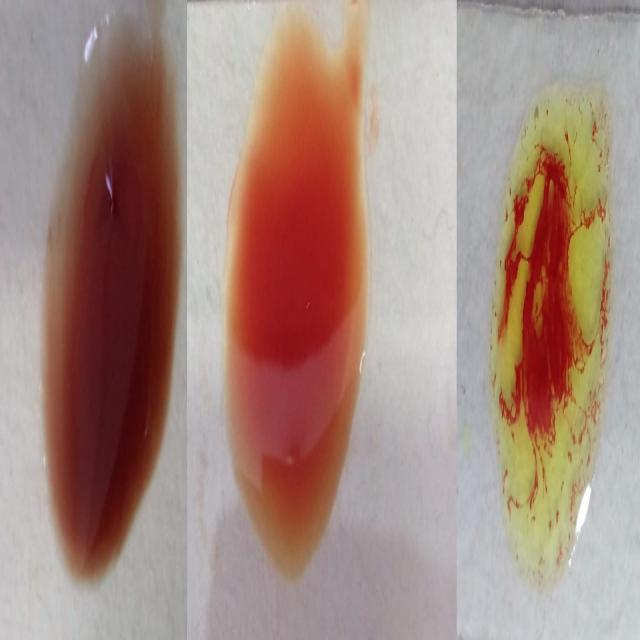B: (498, 61, 604, 578)
